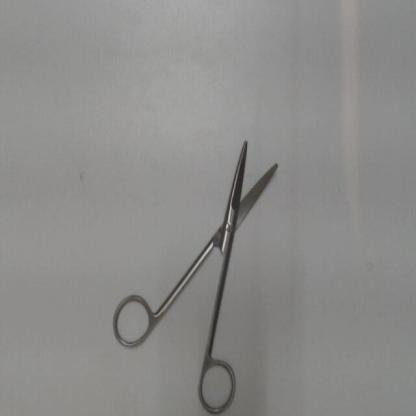Curved Mayo Scissors: (109, 127, 287, 415)
